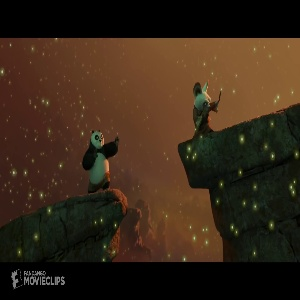po: (82, 126, 122, 192)
shifu: (189, 79, 224, 133)
